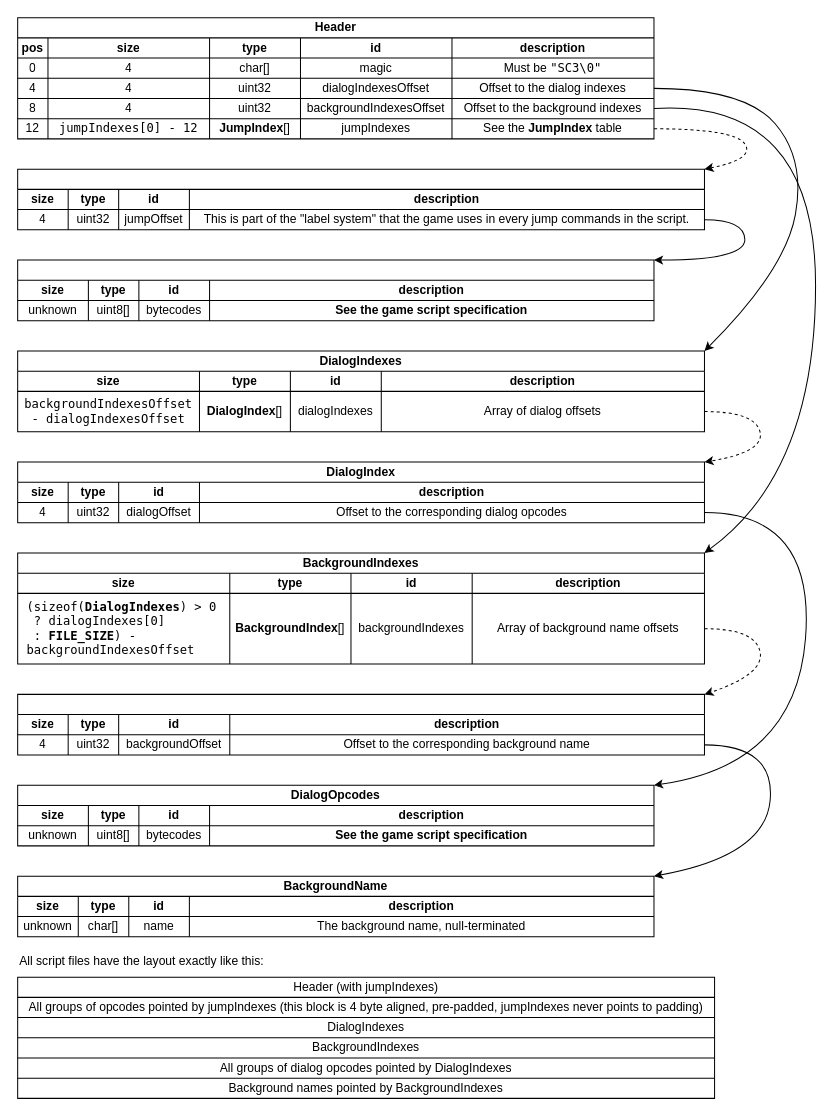
Image size: 833x1116. Some labels were removed from this diagram. The box of each missing label's shape, as (x1, y1, x2, y2) in pixels:
BackgroundIndex: (17, 693, 704, 755)
JumpIndex: (17, 168, 704, 230)
Opcodes: (17, 259, 654, 321)
